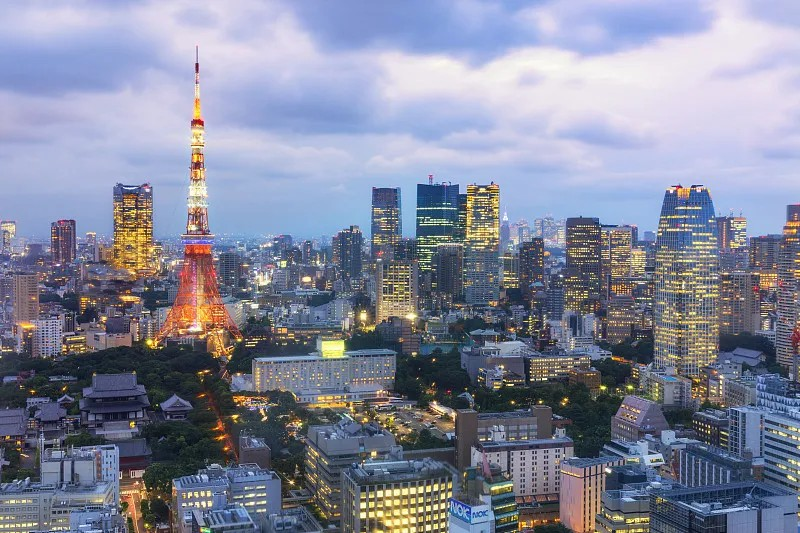Tokyo: (152, 44, 247, 342)
